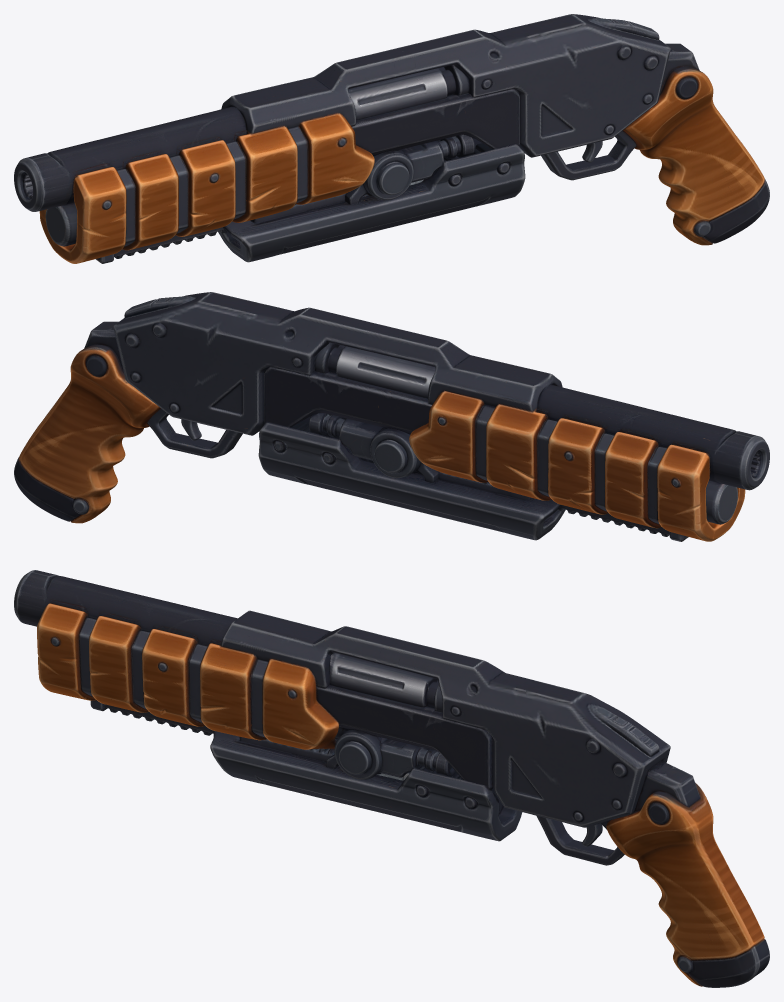
Rendered from shotgun.glb.
3 views of the same model, one above another, from view 1: azimuth 30°, elevation 25°; view 2: azimuth 150°, elevation 25°; view 3: azimuth 330°, elevation 25° (orthographic).
Bounding box in the file's own units: 1.9 × 0.6492 × 0.2364.
Materials: 1 (1 with a texture image).
